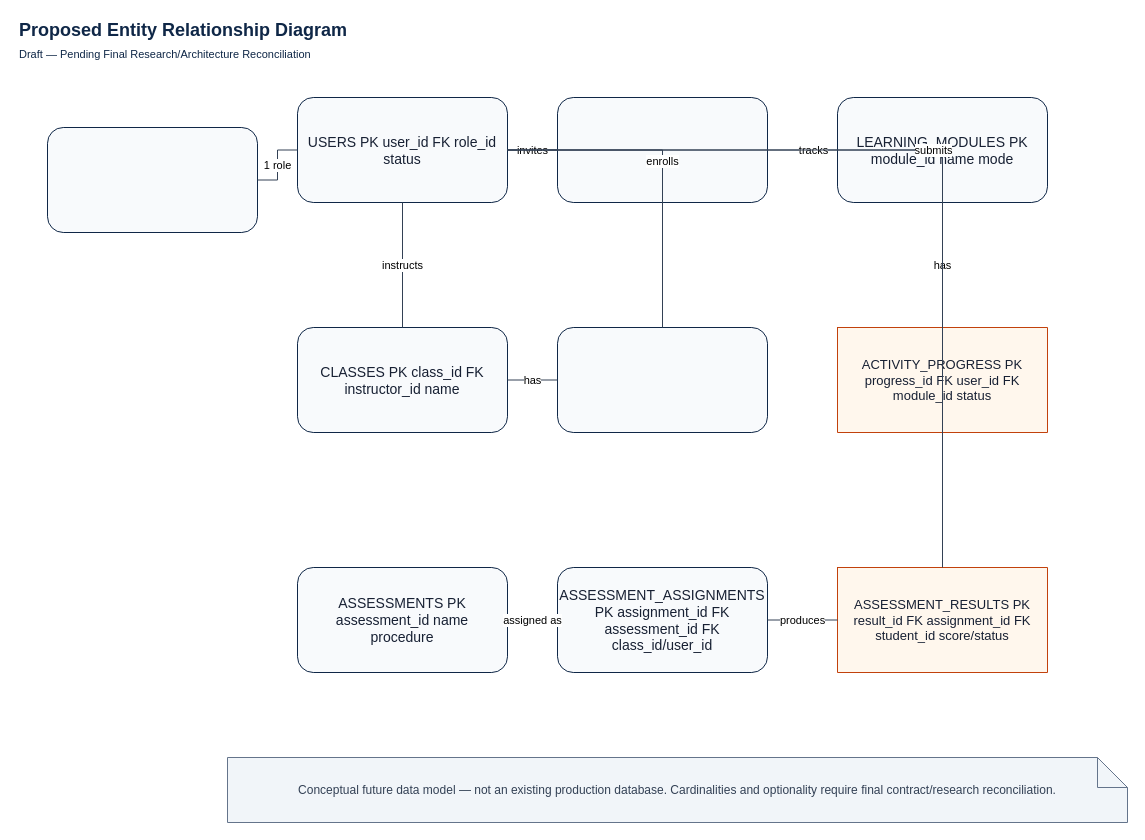
Some shapes in this 1145 by 840 pixel diagram are drawn without their labels. The centre of each missing label's shape, as x and y in pixels:
ENROLLMENTS PK enrollment_id FK class_id FK student_id: (662,379)
INVITATIONS PK invitation_id FK inviter_id FK invitee_user_id state: (662,149)
ROLES PK role_id role_name: (152,179)
